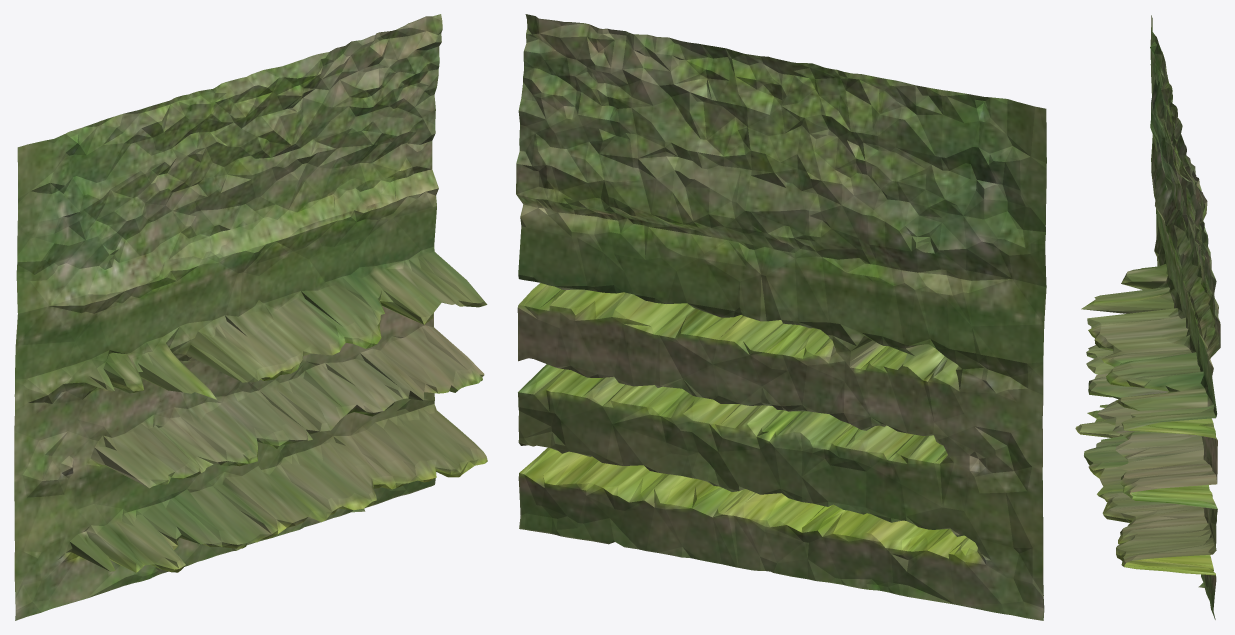
File: map_250_90.obj
3 views of the same model, side by side, from view 1: azimuth 30°, elevation 25°; view 2: azimuth 150°, elevation 25°; view 3: azimuth 270°, elevation 25° (orthographic). The views are drawn at different scales.
Visible parts, largest first — view 1: grp1; view 2: grp1; view 3: grp1.
Boxes of the visible parts, <box> form: grp1: <box>14,14,487,620</box>; grp1: <box>516,14,1046,620</box>; grp1: <box>1075,15,1220,619</box>.
Size of the model in its own units: 10 by 10 by 3.18.
Materials: 1 (1 with a texture image).
